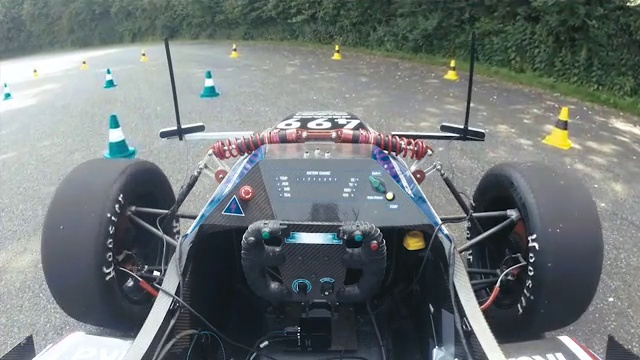Cone: (105, 114, 138, 157), (542, 105, 574, 149), (200, 70, 222, 98), (103, 68, 119, 89), (444, 58, 459, 80), (330, 44, 345, 59)
